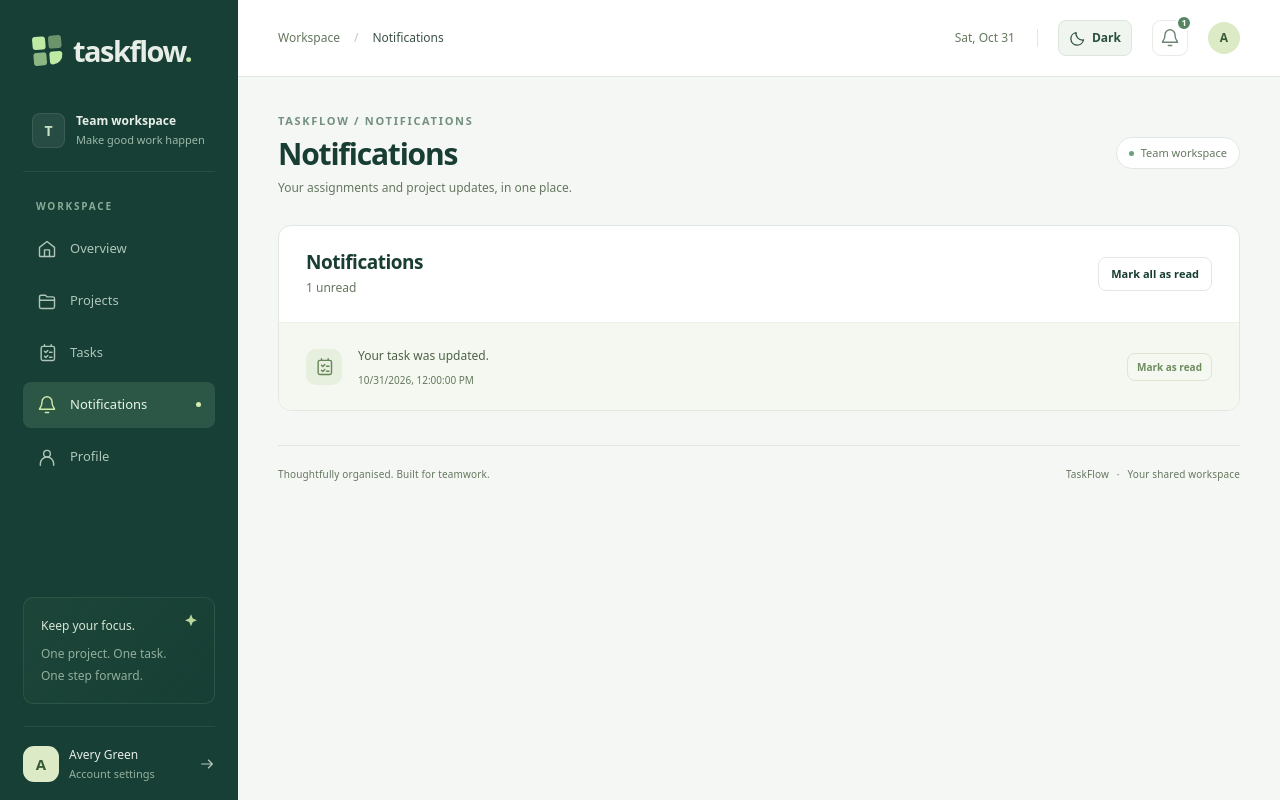
UI-only workspace navigation › uses one notification state for the bell and Notifications screen
Expected: the button named "Notifications: 1 unread" is shown, left=1152, top=20, right=1188, bottom=56
Expected: the text "Your task was updated." is shown, left=357, top=346, right=489, bottom=364
Click the button "Mark as read" at (1170, 367), box left=1127, top=353, right=1212, bottom=381
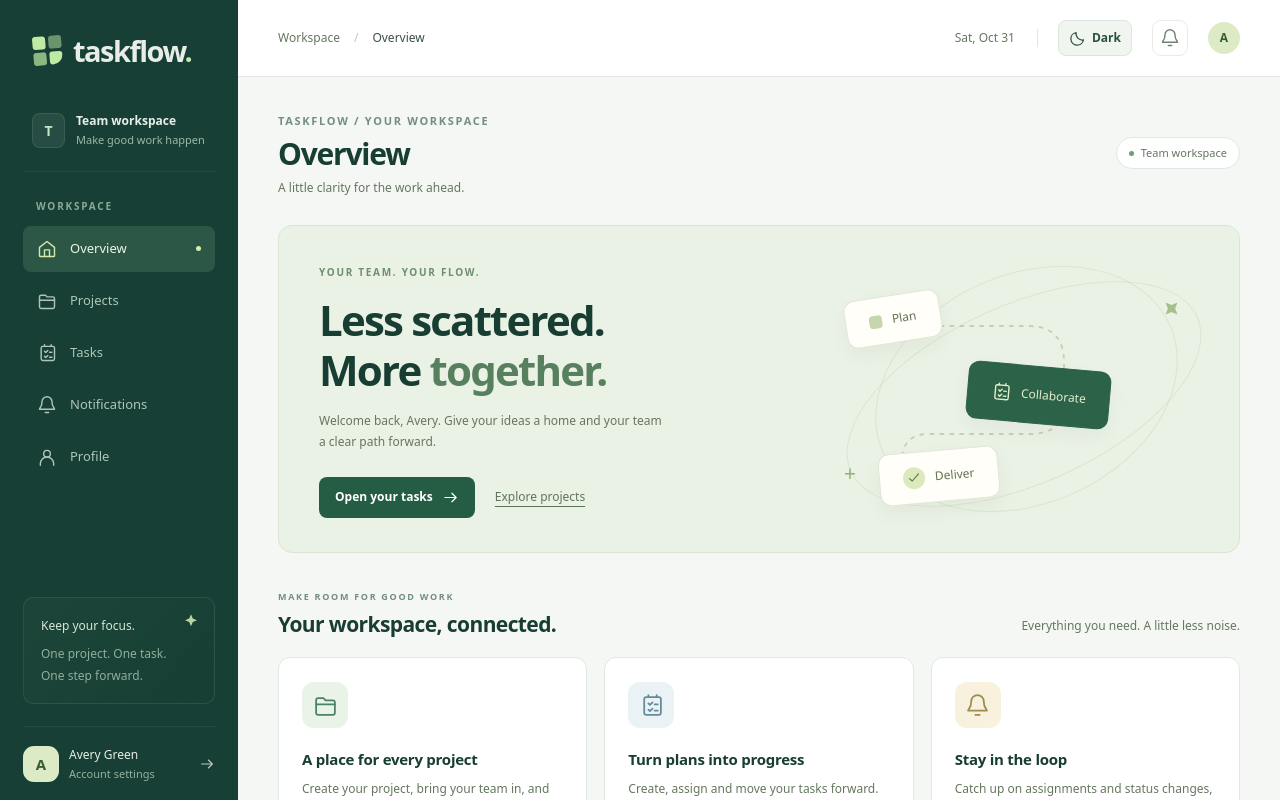
Result: the button named "Notifications: 0 unread" is shown
Click the button named "Notifications: 0 unread" at (1170, 38), box left=1152, top=20, right=1188, bottom=56
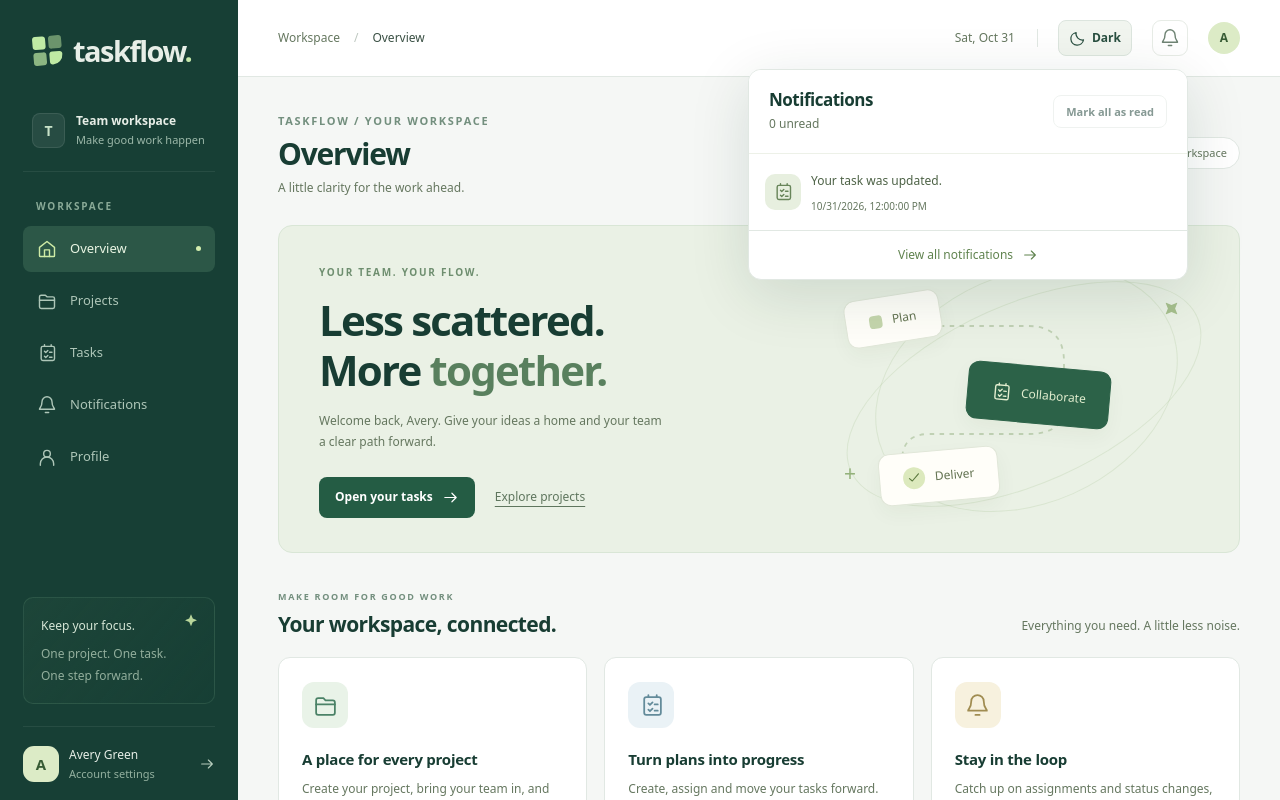
Result: the text "Your task was updated." is shown at left=811, top=172, right=942, bottom=189
